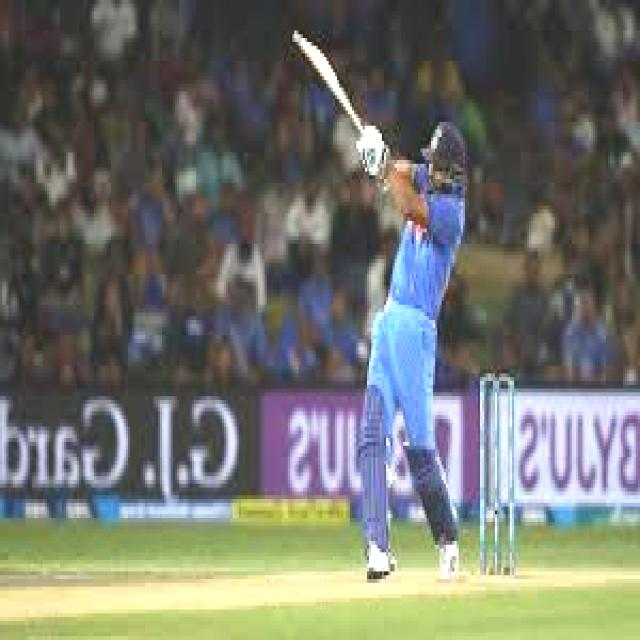toe: (291, 24, 312, 58)
